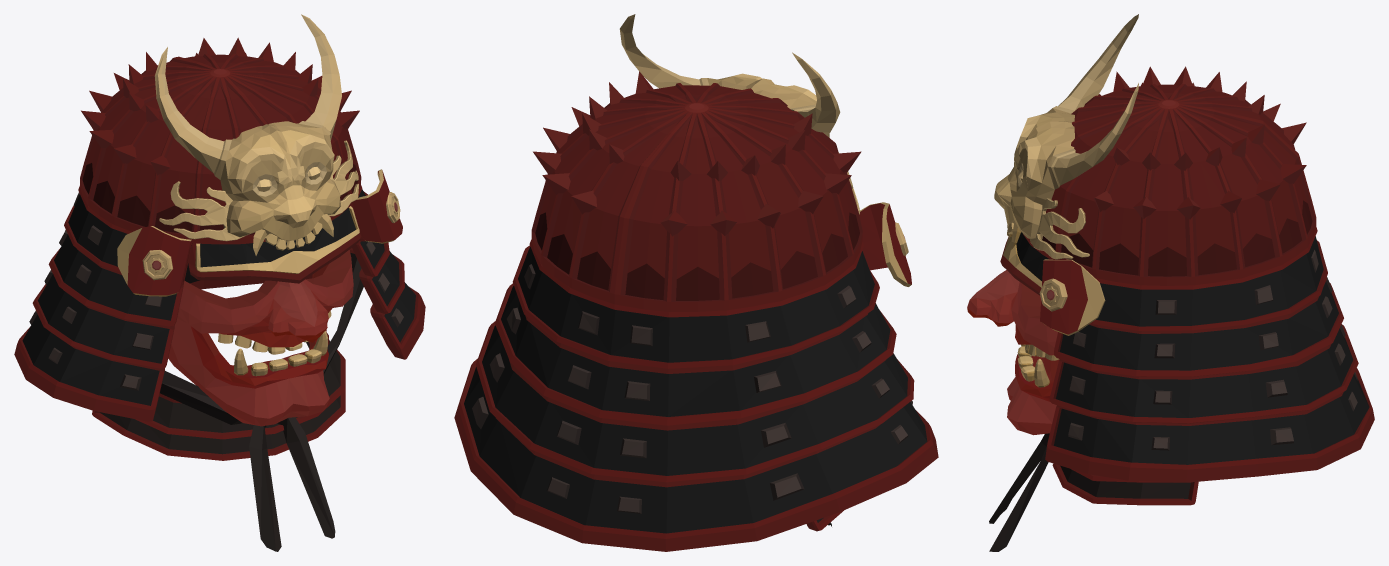
Rendered from samuraiArmorDemonHelmetRed.glb.
The picture shows the model from 3 angles, left to right: view 1: azimuth 30°, elevation 25°; view 2: azimuth 150°, elevation 25°; view 3: azimuth 270°, elevation 25°; orthographic projection. The views are drawn at different scales.
Visible parts, largest first — view 1: samuraiArmorDemonHelmetRed; view 2: samuraiArmorDemonHelmetRed; view 3: samuraiArmorDemonHelmetRed.
Part boxes in pixels (x1,y1,x2,y2): samuraiArmorDemonHelmetRed: (14, 14, 425, 551); samuraiArmorDemonHelmetRed: (454, 14, 938, 551); samuraiArmorDemonHelmetRed: (967, 14, 1374, 551).
Size of the model in its own units: 0.4889 by 0.581 by 0.4387.
